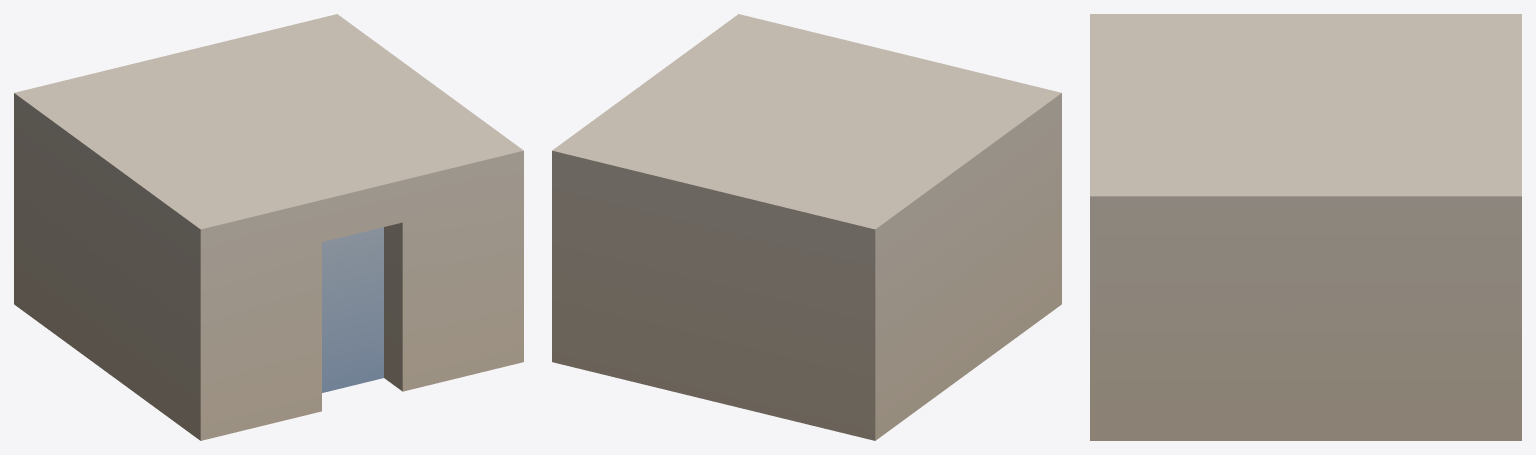
File: building-door.glb
3 renders of one model, left to right at view 1: azimuth 30°, elevation 25°; view 2: azimuth 150°, elevation 25°; view 3: azimuth 270°, elevation 25°, orthographic. The views are drawn at different scales.
Visible parts, largest first — view 1: building-door; view 2: building-door; view 3: building-door.
Part boxes in pixels (bbox=[...]): building-door: bbox=[14, 14, 523, 440]; building-door: bbox=[552, 14, 1061, 440]; building-door: bbox=[1090, 14, 1521, 440].
Size of the model in its own units: 1 by 0.625 by 1.
